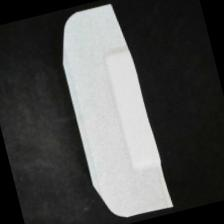Cut: (32, 1, 182, 224)
